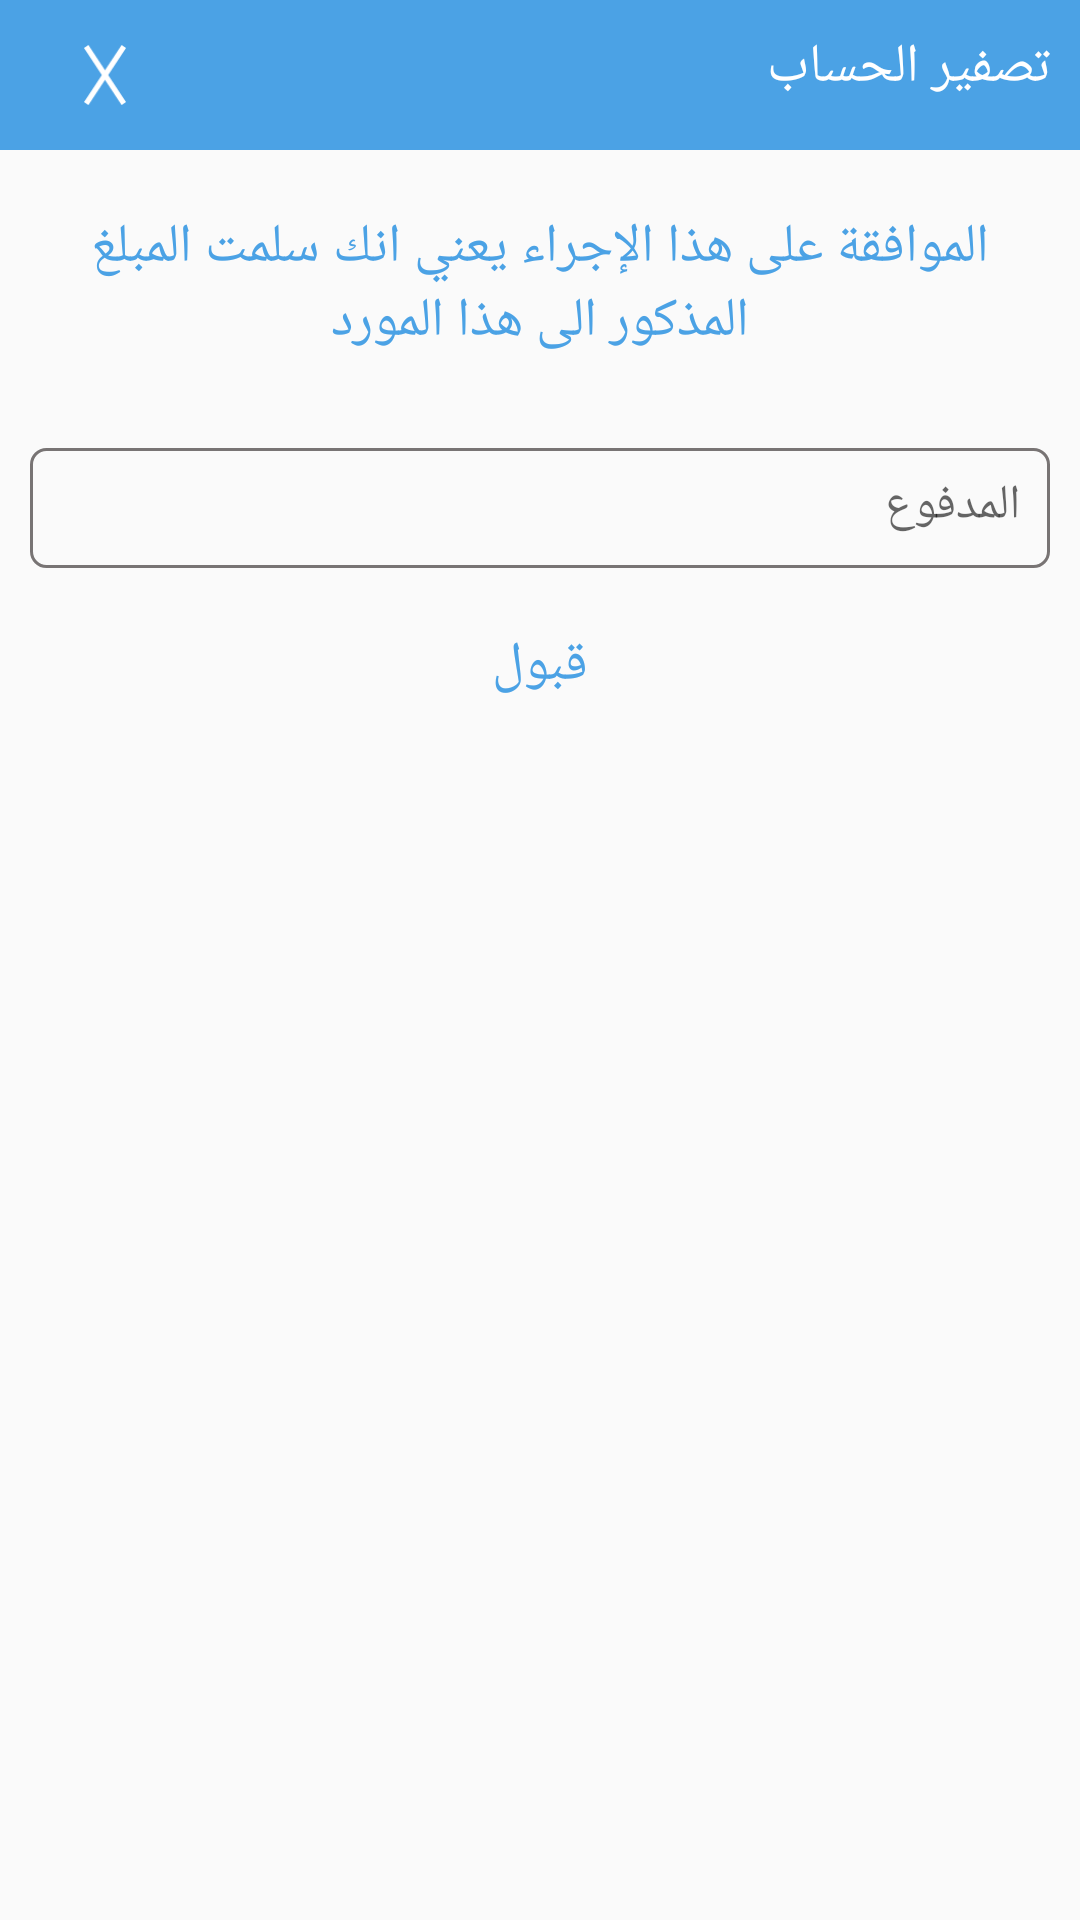

Named icons in this screenshot (1080w x 1920h) and their bounding boxes, BBox(x1, y1, x2, y2):
close: BBox(84, 45, 126, 105)
